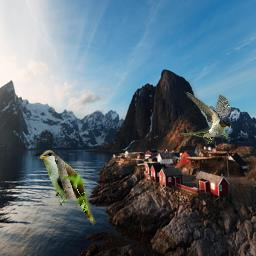Cuckoo: (36, 150, 99, 225)
Swallow: (181, 91, 231, 144)
